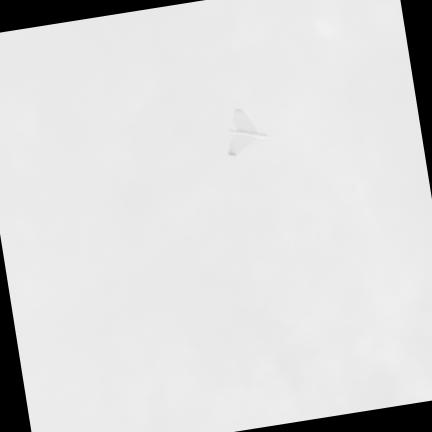Shahed: (228, 109, 267, 154)
